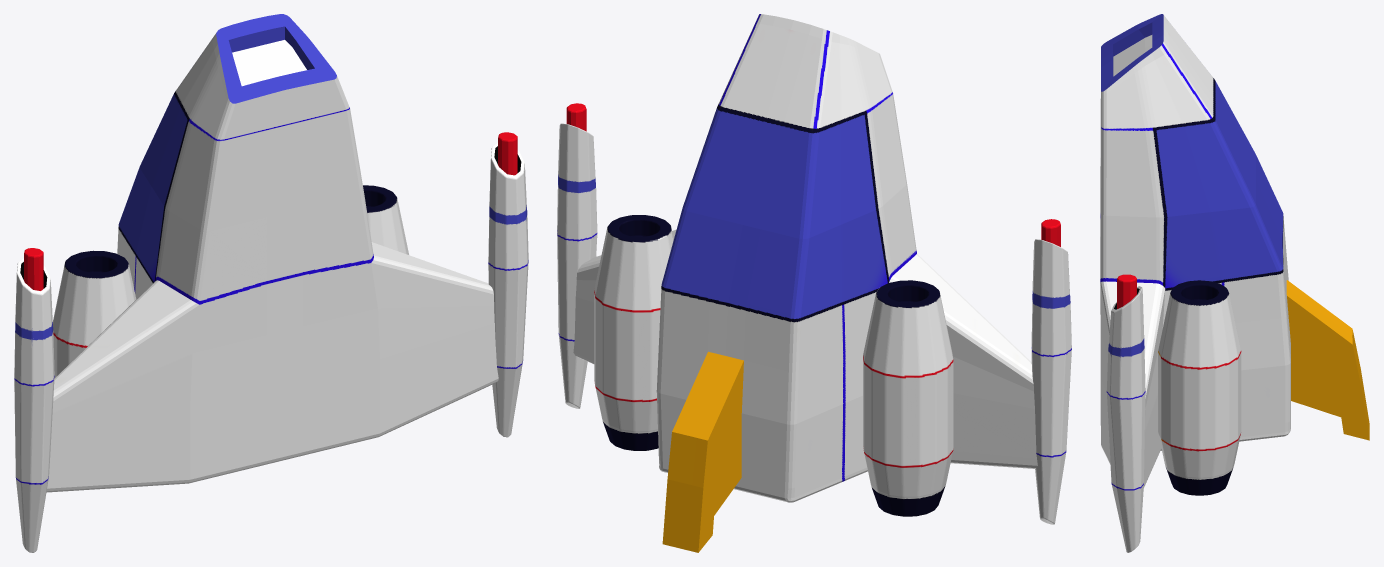
File: spaceship.fbx
3 renders of one model, left to right at view 1: azimuth 30°, elevation 25°; view 2: azimuth 150°, elevation 25°; view 3: azimuth 270°, elevation 25°, orthographic. The views are drawn at different scales.
Parts seen in each view (by area): view 1: spaceship; view 2: spaceship; view 3: spaceship.
Part boxes in pixels (<box>): spaceship: <box>14,14,528,552</box>; spaceship: <box>557,14,1071,552</box>; spaceship: <box>1100,14,1369,552</box>.
Bounding box in the file's own units: 50035 × 43343 × 25212.
